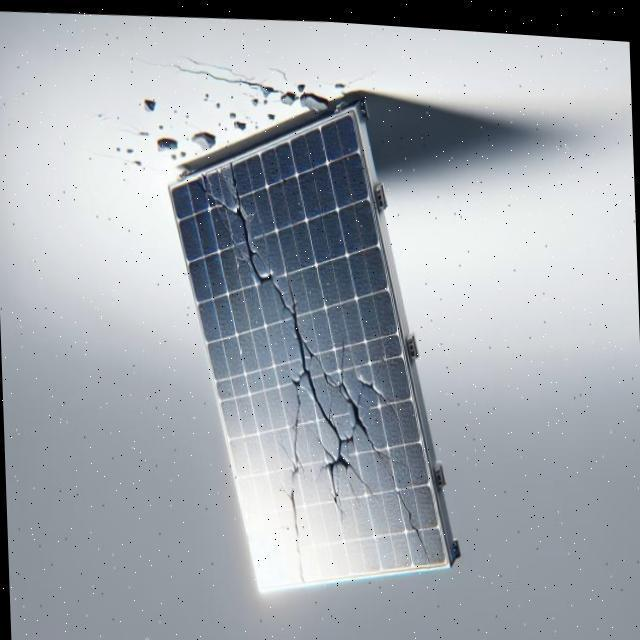Anomaly Solar Panel: (159, 109, 448, 592)
Structural Damage: (186, 151, 385, 579), (326, 326, 439, 569), (296, 404, 386, 533)
